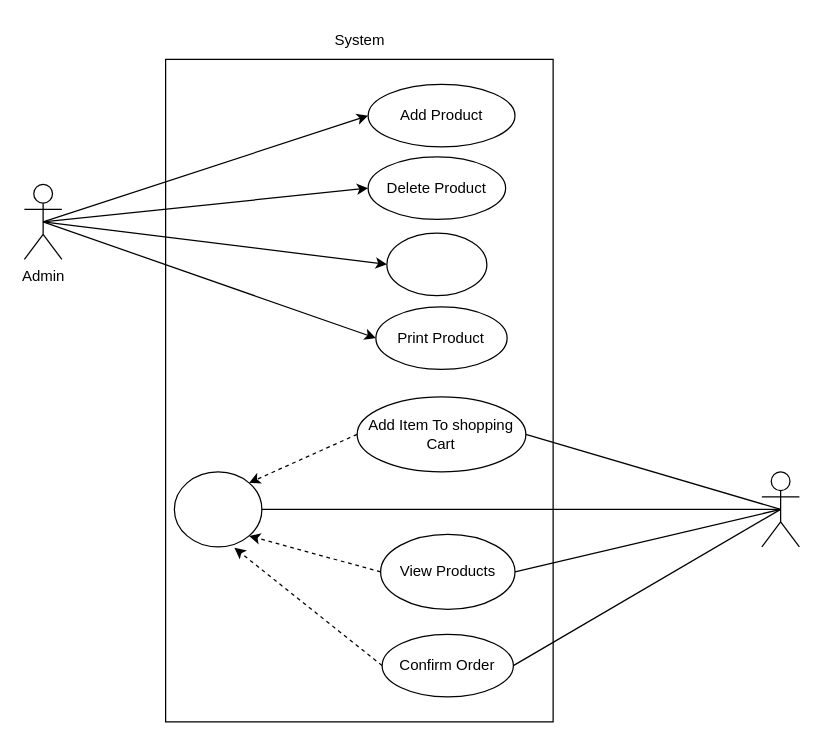
Some shapes in this 834 by 744 pixel diagram are drawn without their labels. Each missing label, with the centre of its shape:
"Customer" goes at point 780,509.
"Login" goes at point 217,509.
"Save File" goes at point 436,264.
